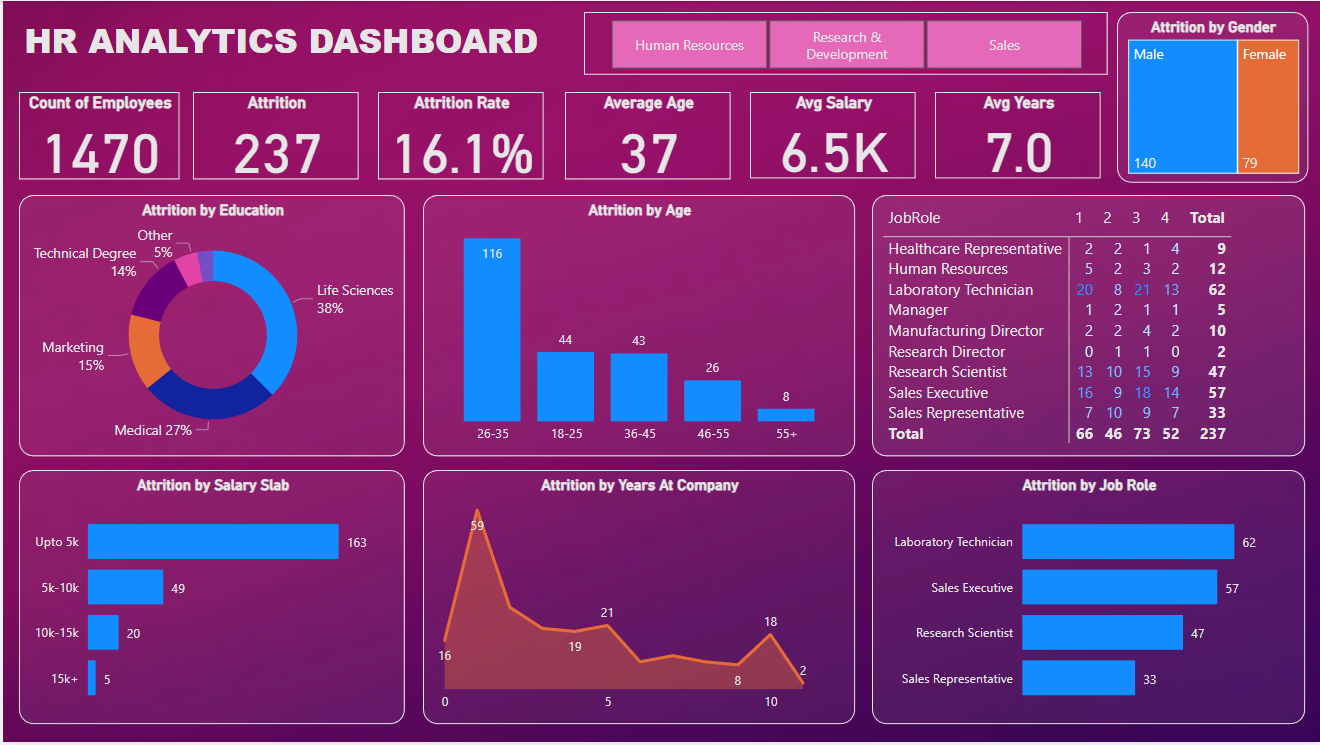

This screenshot's page, from the dashboard's own definition file:
{"tool":"powerbi","page":{"name":"Page 1","canvas":[1280,720],"ordinal":0},"visuals":[{"type":"card","title":"Count of Employees","fields":{"Values":["CountNonNull(HR_Analytics.EmpID)"]},"box":[15.8,88.6,156,85.4],"z":0},{"type":"card","title":"Attrition","fields":{"Values":["Sum(HR_Analytics.AttritionCount)"]},"box":[184.5,88.6,161.3,85.4],"z":1000},{"type":"card","title":"Attrition Rate","fields":{"Values":["HR_Analytics.AttritionRate"]},"box":[364.8,88.6,161.3,85.4],"z":2000},{"type":"card","title":"Average Age","fields":{"Values":["Avg(HR_Analytics.Age)"]},"box":[546.2,88.6,161.3,85.4],"z":3000},{"type":"card","title":"Avg Salary","fields":{"Values":["Avg(HR_Analytics.MonthlyIncome)"]},"box":[726.5,88.6,161.3,84.3],"z":4000},{"type":"card","title":"Avg Years","fields":{"Values":["Avg(HR_Analytics.YearsAtCompany)"]},"box":[905.7,88.6,161.3,84.3],"z":5000},{"type":"donutChart","title":"Attrition by Education","fields":{"Category":["HR_Analytics.EducationField"],"Y":["Sum(HR_Analytics.AttritionCount)"]},"box":[15.8,188.7,375.4,254.1],"z":6000},{"type":"columnChart","title":"Attrition by Age","fields":{"Category":["HR_Analytics.AgeGroup"],"Y":["Sum(HR_Analytics.AttritionCount)"]},"box":[408,188.7,419.6,254.1],"z":7000},{"type":"pivotTable","fields":{"Rows":["HR_Analytics.JobRole"],"Columns":["HR_Analytics.JobSatisfaction"],"Values":["Sum(HR_Analytics.AttritionCount)"]},"box":[844.5,188.7,420.7,254.1],"z":8000},{"type":"barChart","title":"Attrition by Salary Slab","fields":{"Category":["HR_Analytics.SalarySlab"],"Y":["Sum(HR_Analytics.AttritionCount)"]},"box":[15.8,455.5,375.4,246.7],"z":9000},{"type":"barChart","title":"Attrition by Job Role","fields":{"Category":["HR_Analytics.JobRole"],"Y":["Sum(HR_Analytics.AttritionCount)"]},"box":[844.5,455.5,420.7,246.7],"z":10000},{"type":"areaChart","title":"Attrition by Years At Company","fields":{"Category":["HR_Analytics.YearsAtCompany"],"Y":["Sum(HR_Analytics.AttritionCount)"]},"box":[408,455.5,419.6,246.7],"z":11000},{"type":"treemap","title":"Attrition by Gender","fields":{"Group":["HR_Analytics.Gender"],"Values":["Sum(HR_Analytics.AttritionCount)"]},"box":[1082.8,10.5,185.6,165.5],"z":12000},{"type":"slicer","fields":{"Values":["HR_Analytics.Department"]},"box":[565.1,10.5,509.3,61.2],"z":13000},{"type":"textbox","box":[15.8,10.5,540.9,68.5],"z":14000}]}

Visuals, with their boxes in screenshot pixels (x1, y1, x2, y2), scaled from the page's 1280x720 canvas onto the 1320x745 screenshot:
"Count of Employees" card: (left=16, top=92, right=177, bottom=180)
"Attrition" card: (left=190, top=92, right=357, bottom=180)
"Attrition Rate" card: (left=376, top=92, right=543, bottom=180)
"Average Age" card: (left=563, top=92, right=730, bottom=180)
"Avg Salary" card: (left=749, top=92, right=916, bottom=179)
"Avg Years" card: (left=934, top=92, right=1100, bottom=179)
"Attrition by Education" donutChart: (left=16, top=195, right=403, bottom=458)
"Attrition by Age" columnChart: (left=421, top=195, right=853, bottom=458)
pivotTable - HR_Analytics.JobRole x HR_Analytics.JobSatisfaction: (left=871, top=195, right=1305, bottom=458)
"Attrition by Salary Slab" barChart: (left=16, top=471, right=403, bottom=727)
"Attrition by Job Role" barChart: (left=871, top=471, right=1305, bottom=727)
"Attrition by Years At Company" areaChart: (left=421, top=471, right=853, bottom=727)
"Attrition by Gender" treemap: (left=1117, top=11, right=1308, bottom=182)
slicer - HR_Analytics.Department: (left=583, top=11, right=1108, bottom=74)
textbox: (left=16, top=11, right=574, bottom=82)
